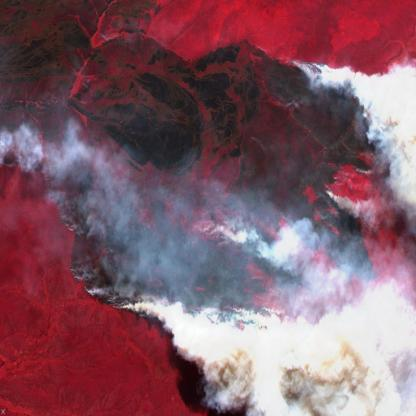fire: (0, 48, 416, 360)
